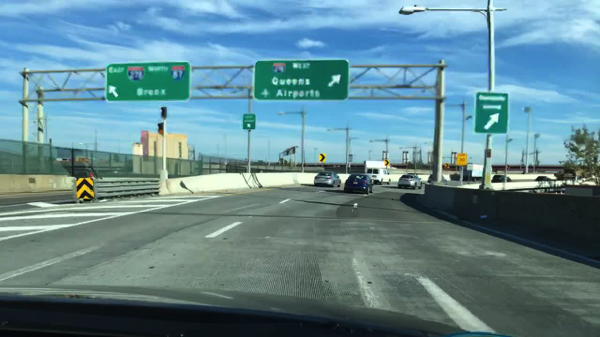car: (344, 176, 375, 196), (314, 172, 342, 189), (364, 169, 392, 184), (398, 176, 422, 190), (491, 175, 511, 183), (427, 174, 447, 182), (535, 176, 554, 183), (563, 169, 574, 180)
traffic sign: (254, 59, 349, 101), (106, 63, 191, 102), (475, 91, 508, 136), (242, 115, 256, 130), (456, 154, 467, 166), (319, 154, 326, 162), (382, 159, 389, 165), (443, 164, 448, 169)
truck: (465, 162, 492, 182), (362, 160, 398, 169)
